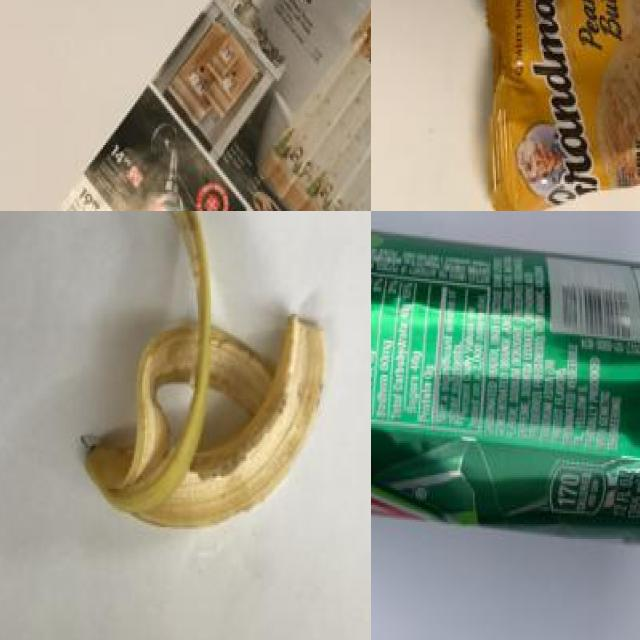compost: (73, 211, 335, 552)
paper: (34, 0, 371, 211)
plastic: (371, 227, 640, 545)
trash: (464, 0, 640, 211)
